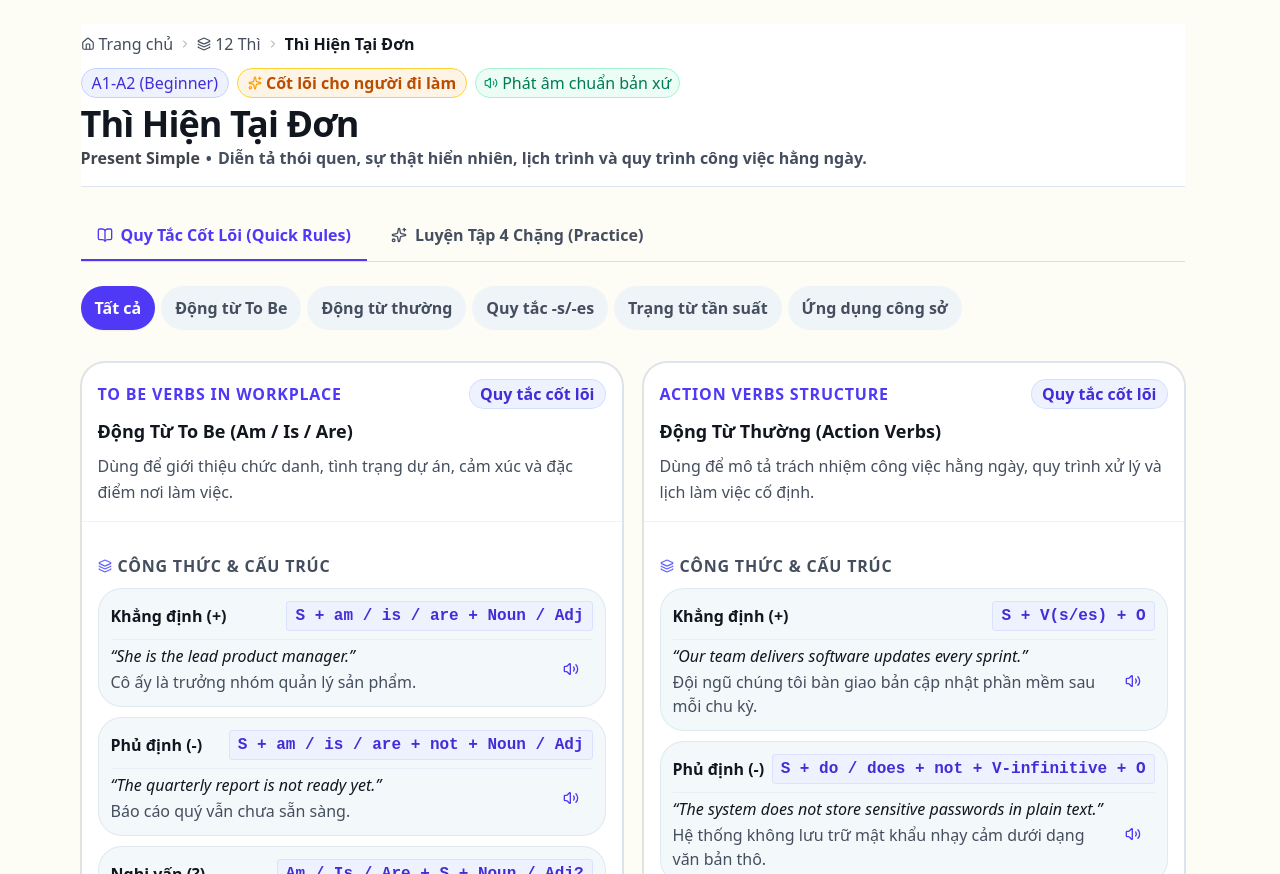
Scenario: TenseLessonContainer component › allows entering Stage 1 (ConjugationStage) and returning back to stage list
Click the tab "Luyện Tập 4 Chặng (Practice)".
click(517, 236)  # box [375, 211, 659, 261]
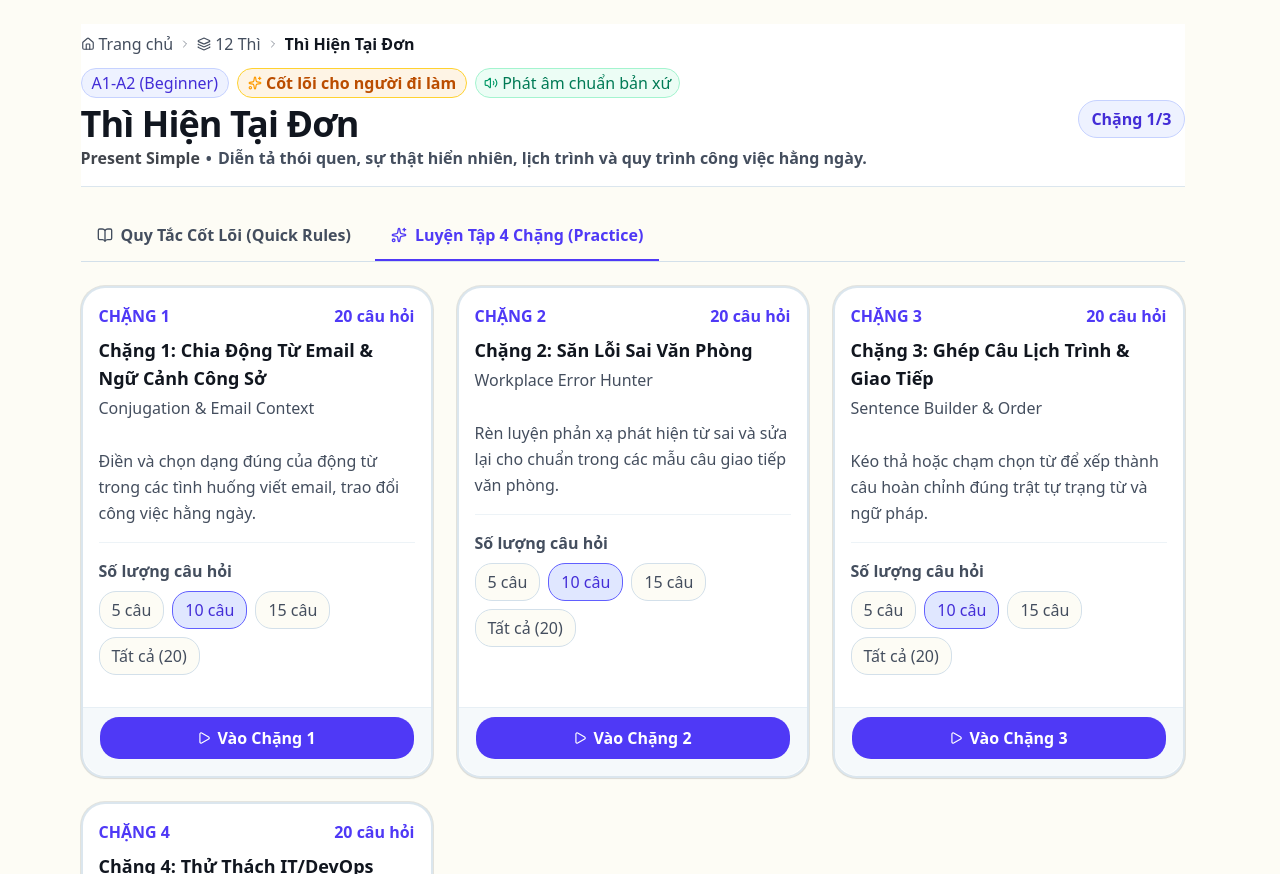
// Click "Vào Chặng 1"
Click the button "Vào Chặng 1".
click(256, 738)  # box [98, 716, 414, 760]
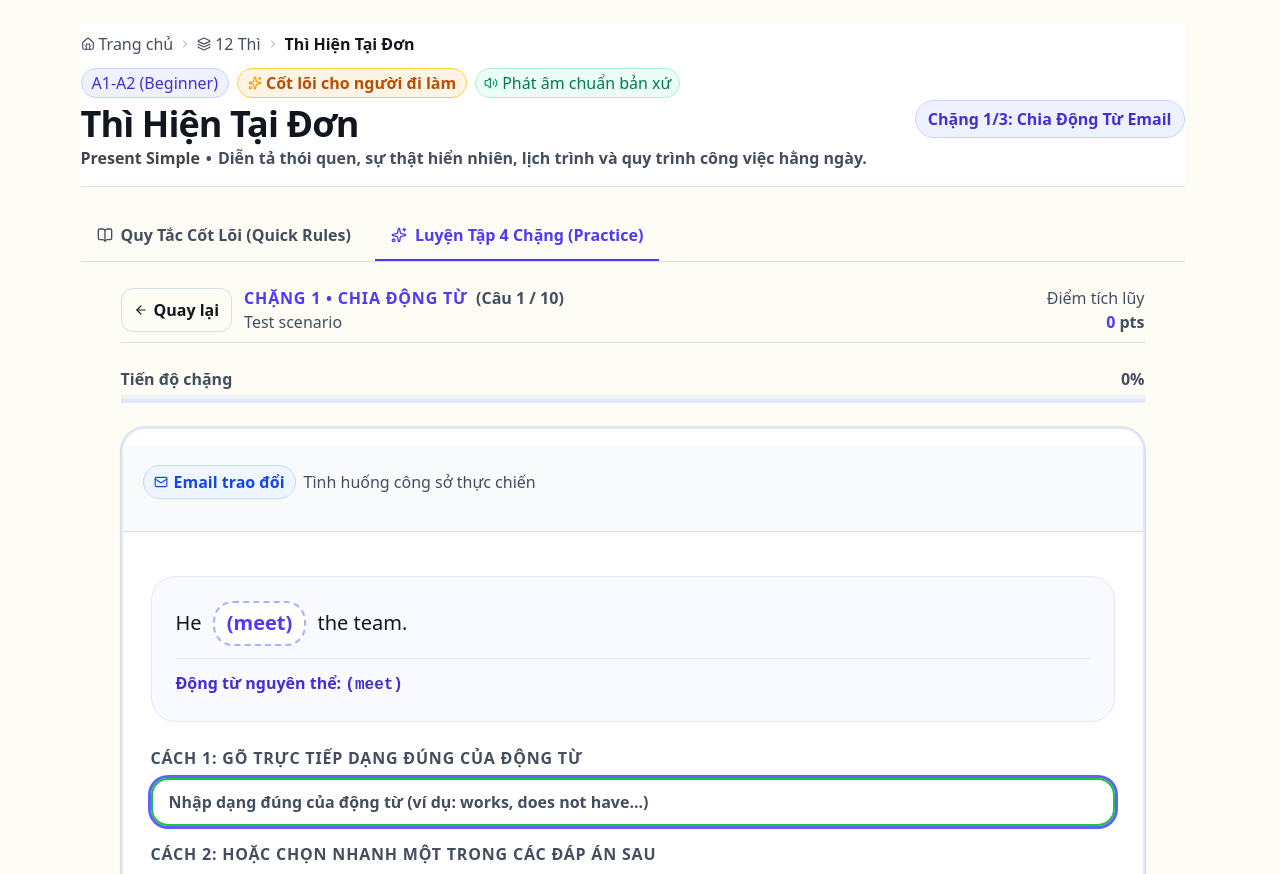
expect the text "Chặng 1 • Chia Động Từ" is shown: met, box [244, 286, 468, 310]
expect the text "(Câu 1 / 10)" is shown: met, box [476, 286, 564, 310]
expect the button "Quay lại" is shown: met
// Click return
Click the button "Quay lại".
click(176, 310)  # box [120, 288, 232, 332]
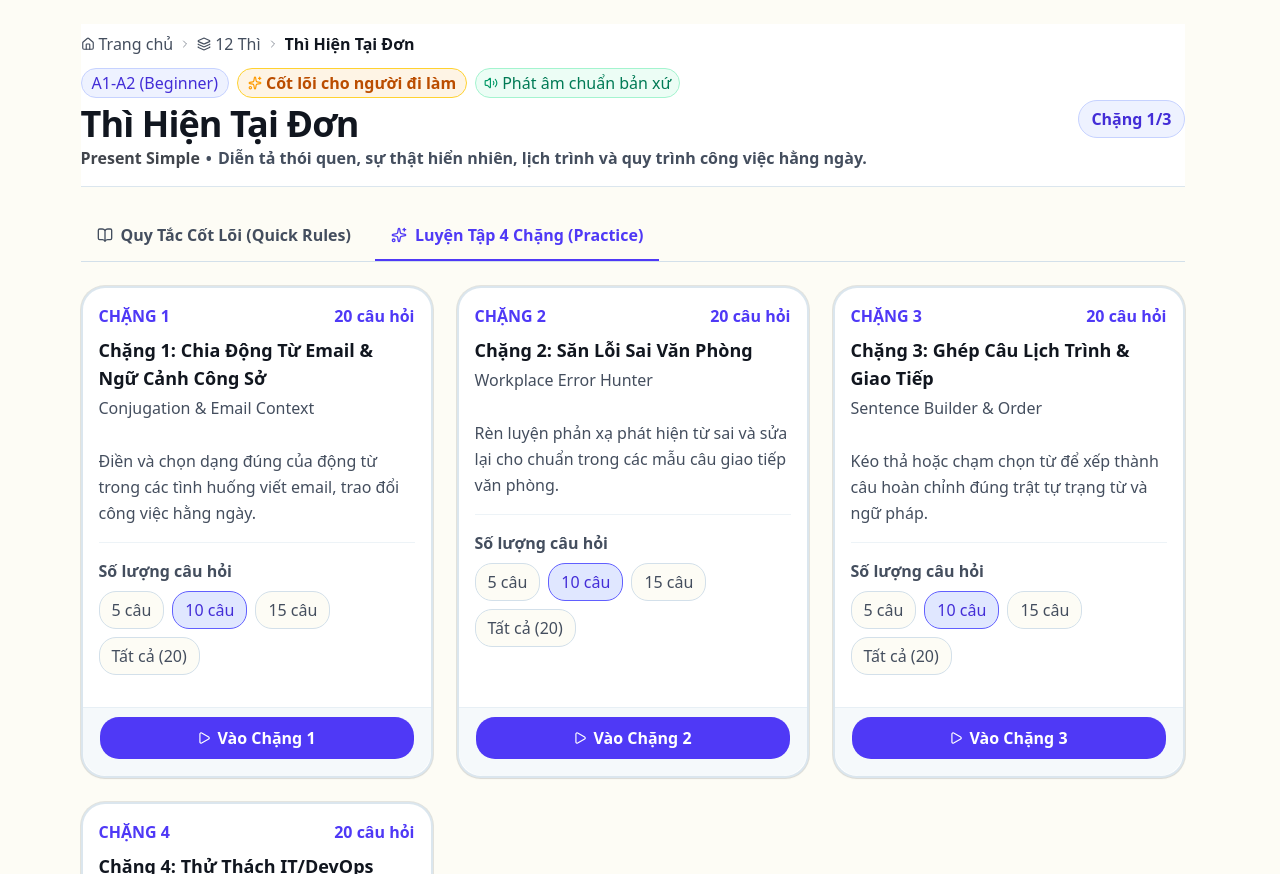
expect the button "Vào Chặng 1" is shown: met, box [98, 716, 414, 760]
